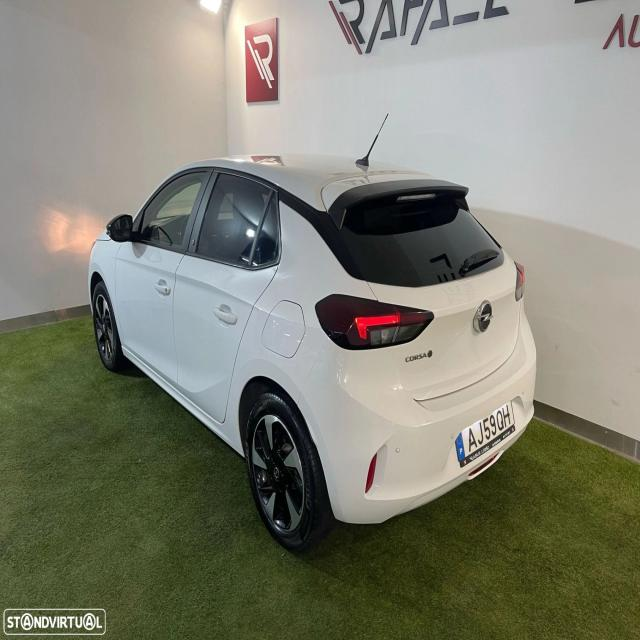portuguese-license-plates: (455, 401, 515, 468)
